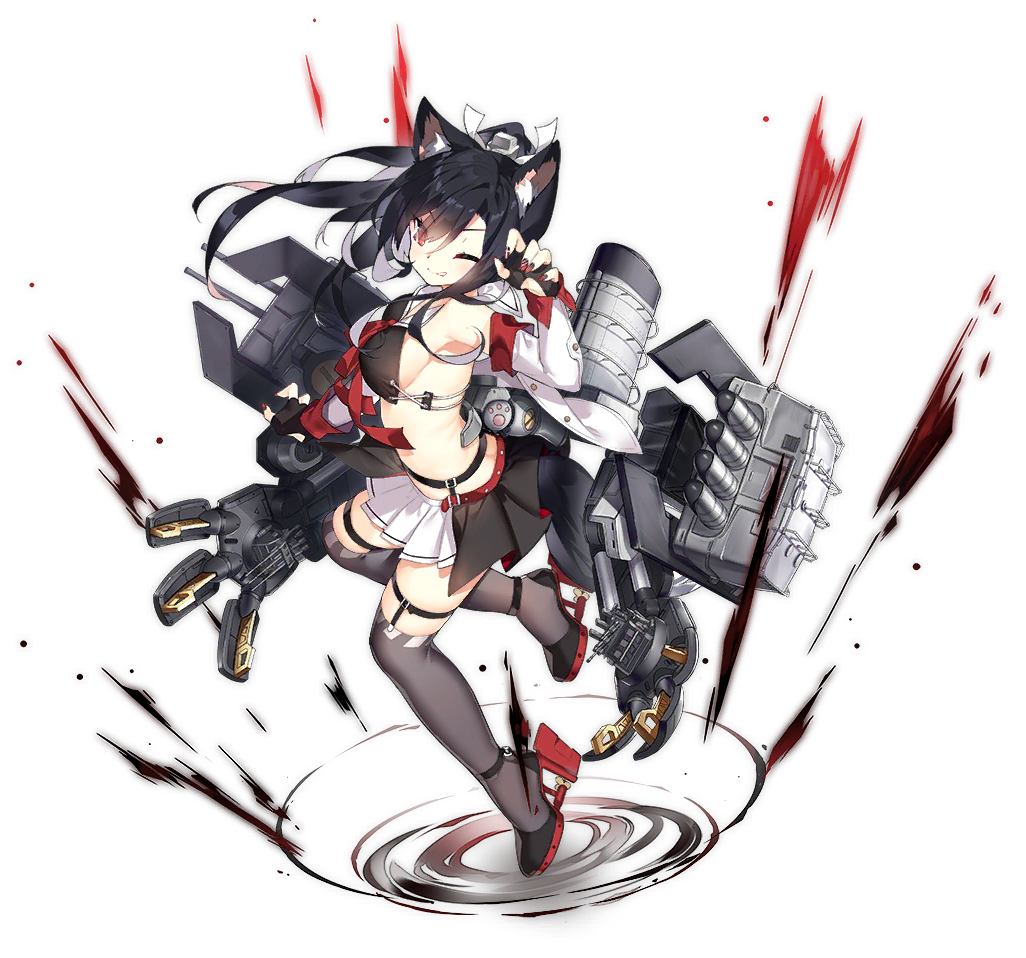person: (236, 114, 690, 834)
